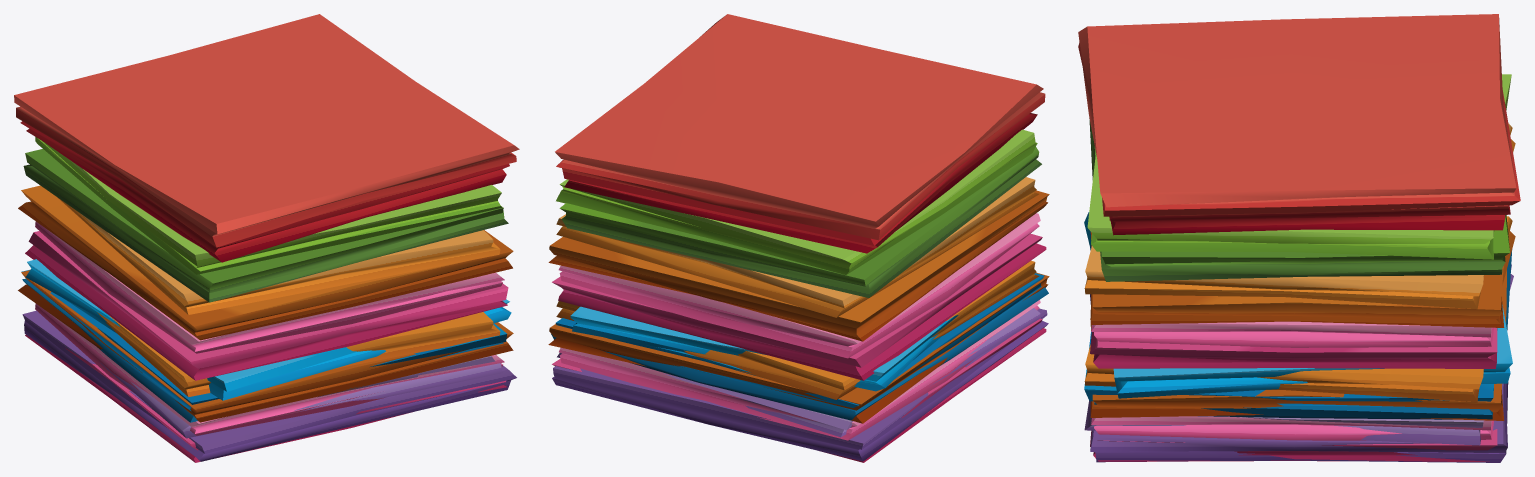
File: SM_Paper_Stack_Collectible.fbx
3 renders of one model, left to right at view 1: azimuth 30°, elevation 25°; view 2: azimuth 150°, elevation 25°; view 3: azimuth 270°, elevation 25°, orthographic. The views are drawn at different scales.
Parts seen in each view (by area): view 1: Paper_Stack_Collectible_x10, Paper_Stack_Collectible_x2; view 2: Paper_Stack_Collectible_x10, Paper_Stack_Collectible_x2; view 3: Paper_Stack_Collectible_x10, Paper_Stack_Collectible_x2.
Boxes of the visible parts, x1,y1,x2,y2 form: Paper_Stack_Collectible_x10: [14, 14, 519, 461]; Paper_Stack_Collectible_x2: [18, 270, 513, 462]; Paper_Stack_Collectible_x10: [548, 14, 1049, 461]; Paper_Stack_Collectible_x2: [548, 260, 1049, 462]; Paper_Stack_Collectible_x10: [1078, 14, 1520, 462]; Paper_Stack_Collectible_x2: [1084, 216, 1515, 461].
Bounding box in the file's own units: 144 × 101 × 146.
